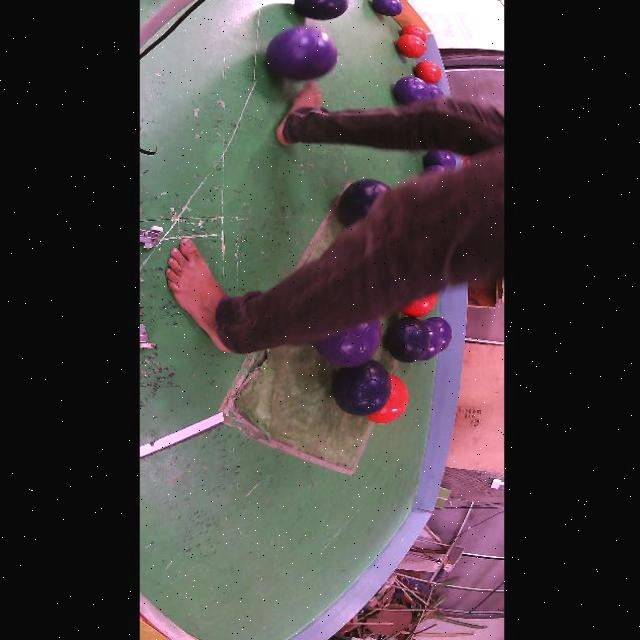B: (332, 359, 391, 416), (337, 179, 389, 226), (384, 317, 430, 363), (293, 0, 348, 20)
P: (265, 25, 336, 81), (315, 319, 381, 368), (393, 76, 430, 106), (420, 320, 443, 361), (428, 316, 451, 352), (424, 149, 455, 172), (372, 0, 402, 16), (429, 85, 444, 100)
R: (367, 374, 407, 424), (399, 292, 436, 317), (396, 34, 426, 58), (413, 61, 441, 83), (400, 25, 426, 43)
